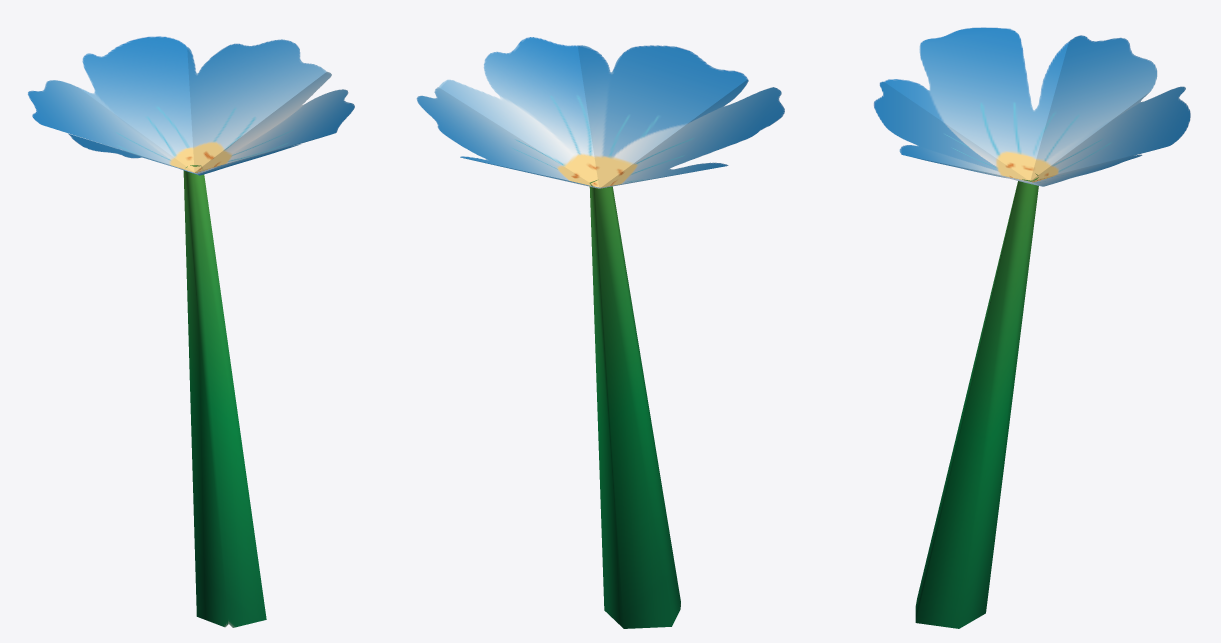
The model's file is SM_Flower7(Fix).fbx.
The picture shows the model from 3 angles, left to right: view 1: azimuth 30°, elevation 25°; view 2: azimuth 150°, elevation 25°; view 3: azimuth 270°, elevation 25°; orthographic projection. The views are drawn at different scales.
Visible parts, largest first — view 1: Flower_Mash7; view 2: Flower_Mash7; view 3: Flower_Mash7.
Boxes of the visible parts, box(x1,y1,x2,y2) form: Flower_Mash7: box(27, 36, 354, 627); Flower_Mash7: box(416, 37, 784, 628); Flower_Mash7: box(873, 27, 1190, 628).
Bounding box in the file's own units: 0.0831 × 0.1146 × 0.0721.
